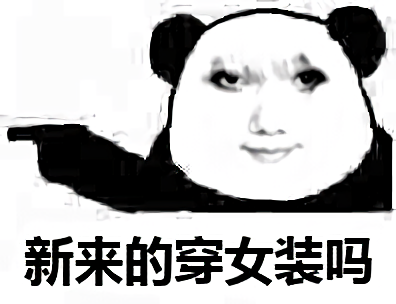dragon: (204, 52, 337, 165)
